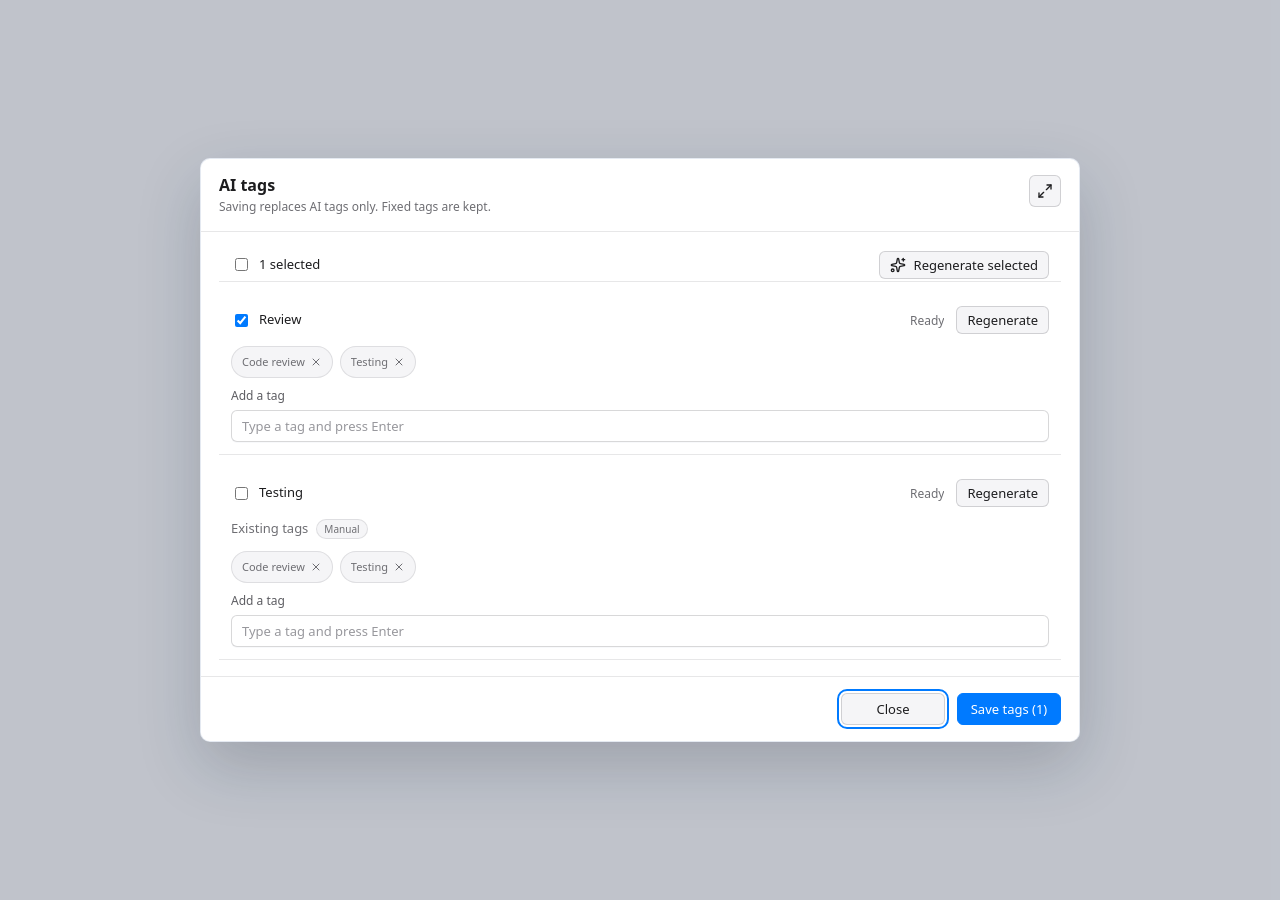
AI tag review › keeps per-item save failures visible and saves other items
What coordinates should you click on to do the following:
click the checkbox named "Select all"
I would click on:
 (242, 264)
Its box is top-left (235, 258), bottom-right (248, 271).
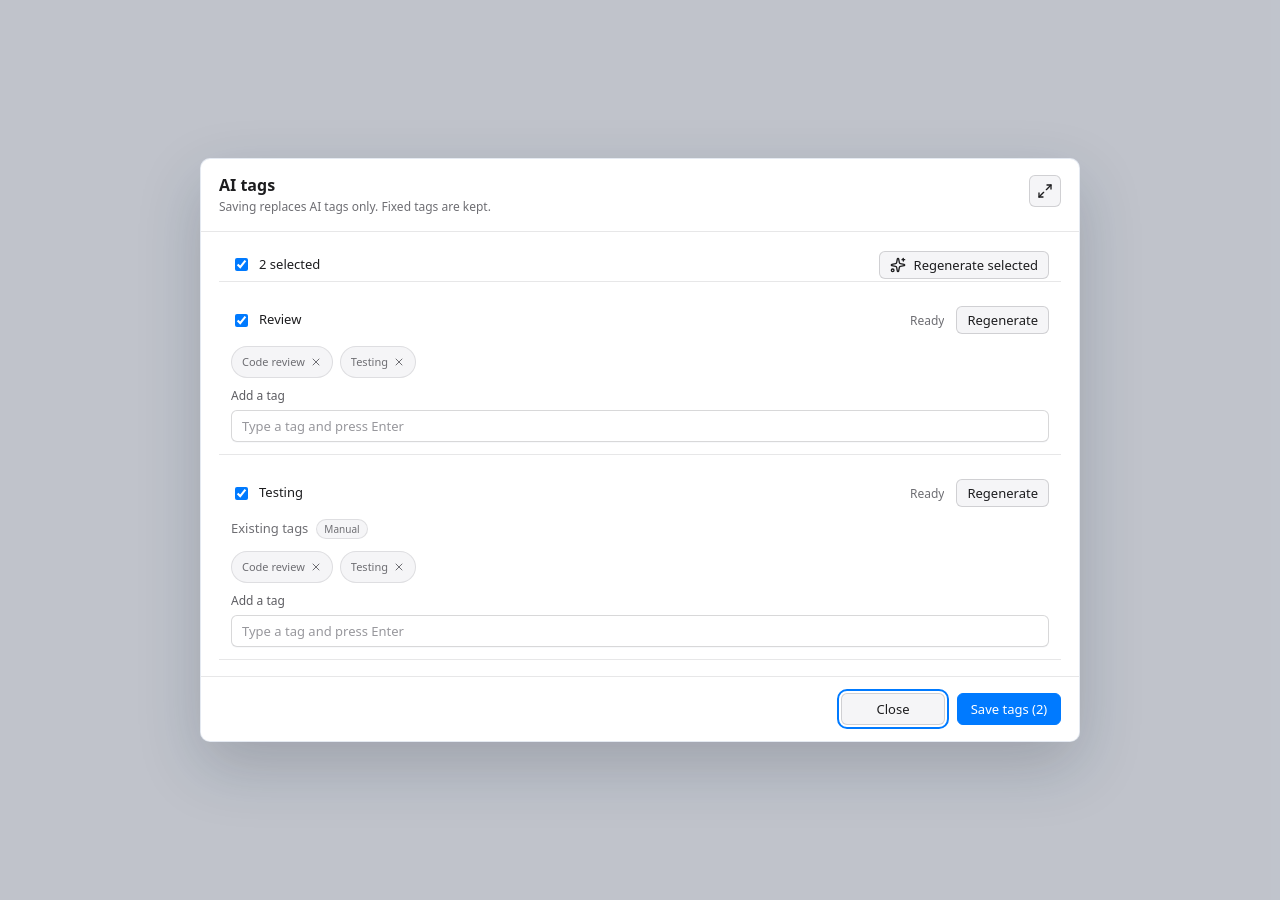
What coordinates should you click on to do the following:
click the button "Save tags (2)"
I would click on:
 (1009, 709)
Its box is top-left (957, 693), bottom-right (1061, 725).
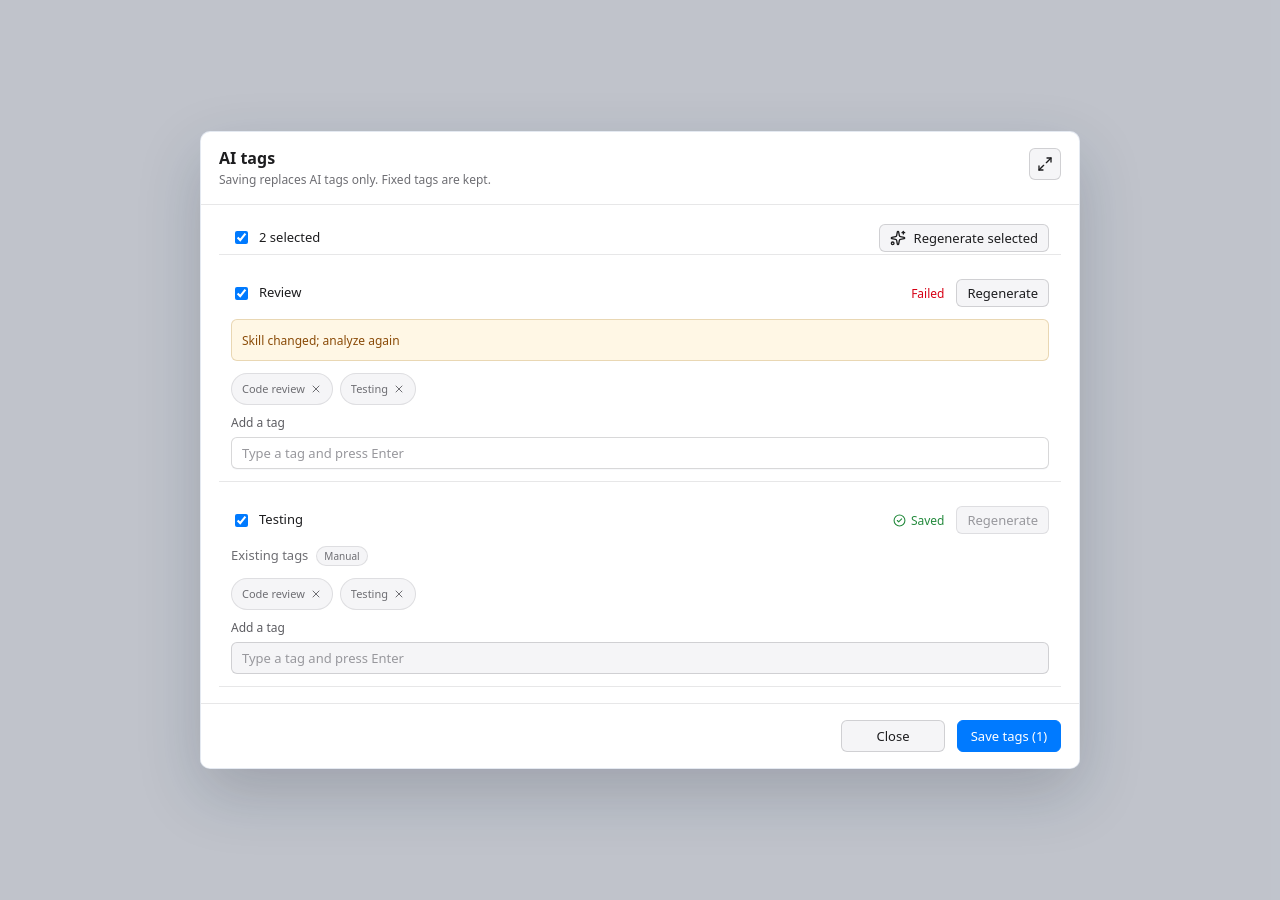
Now the text "Skill changed; analyze again" is shown, box top-left (242, 332), bottom-right (400, 348)
Now the text "Saved" is shown, box top-left (911, 512), bottom-right (944, 528)
